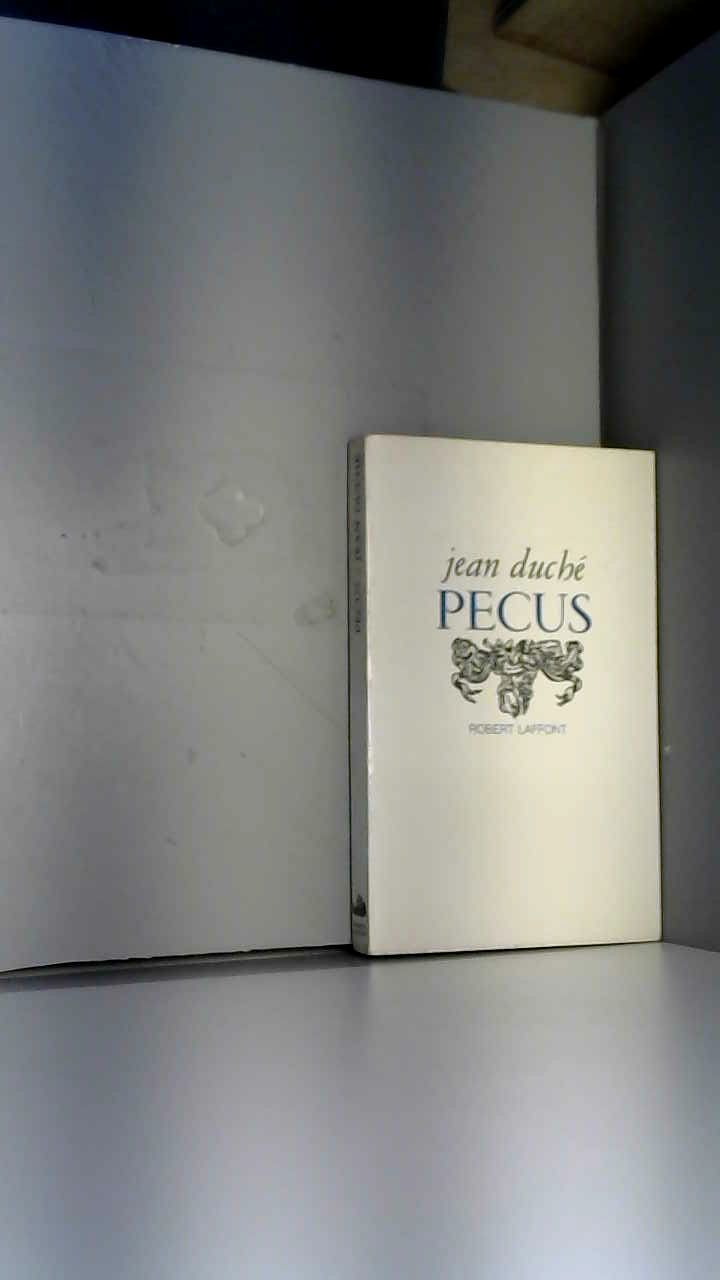book: (315, 398, 687, 995)
